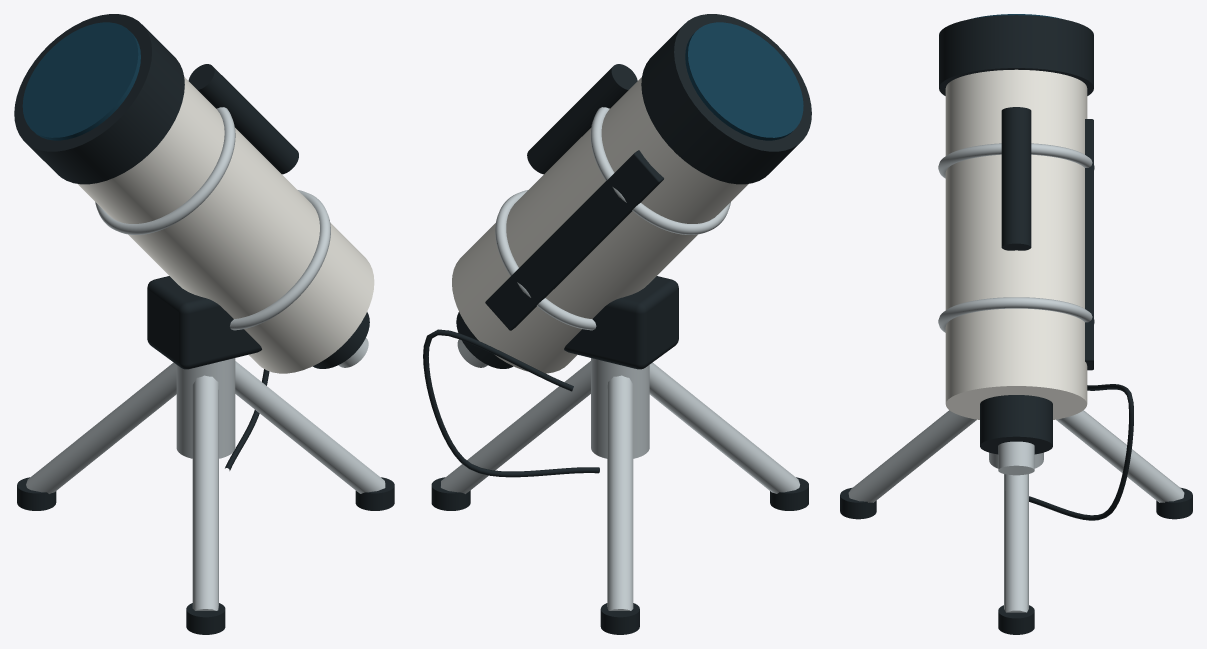
Rendered from telescope.glb.
3 renders of one model, left to right at view 1: azimuth 30°, elevation 25°; view 2: azimuth 150°, elevation 25°; view 3: azimuth 270°, elevation 25°, orthographic. The views are drawn at different scales.
Parts seen in each view (by area): view 1: Optical tube, Equatorial mount; view 2: Optical tube, Equatorial mount; view 3: Optical tube, Equatorial mount.
Part boxes in pixels (box(x1,y1,x2,y2)): Optical tube: box(14, 14, 374, 470); Equatorial mount: box(17, 276, 394, 634); Optical tube: box(423, 14, 811, 477); Equatorial mount: box(431, 276, 808, 634); Optical tube: box(938, 14, 1133, 520); Equatorial mount: box(840, 410, 1192, 634).
Bounding box in the file's own units: 1.72 × 2.44 × 1.55.
